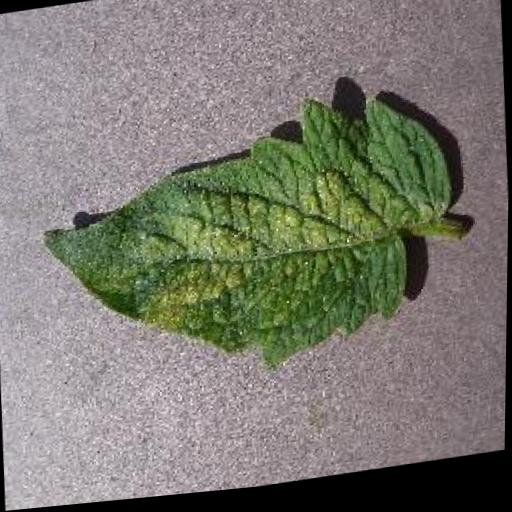Spider Mites: (34, 87, 460, 400)
